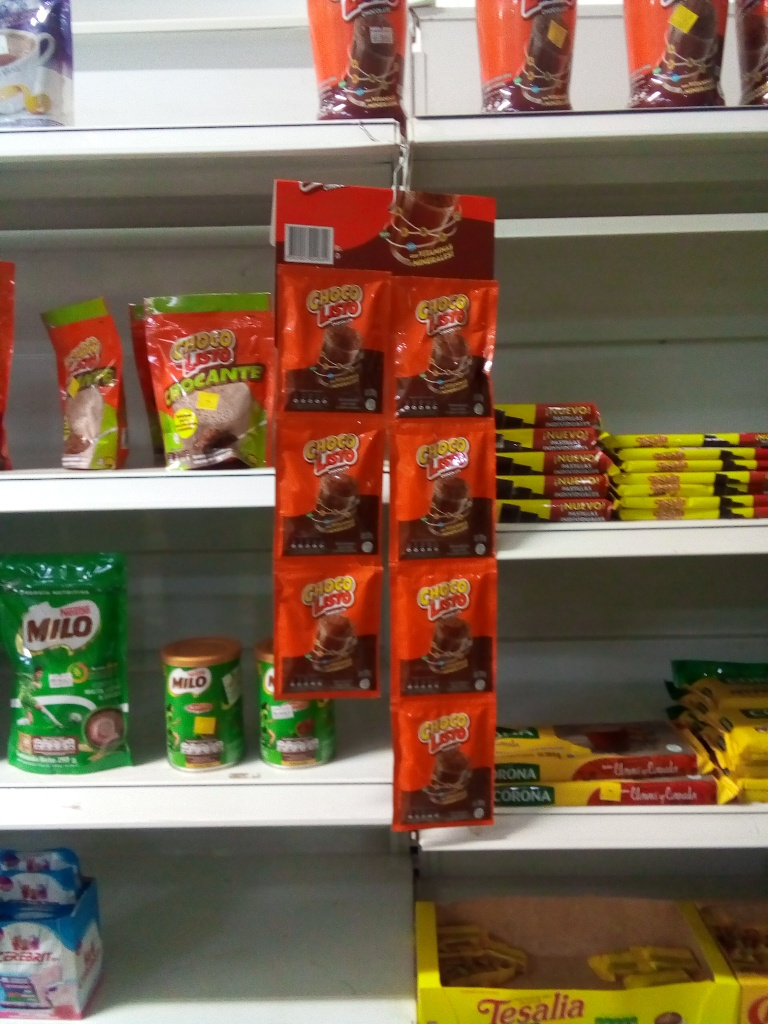COL0170103SOB02000: (391, 696, 495, 827)
COL0170203LAT20000: (159, 635, 248, 773)
